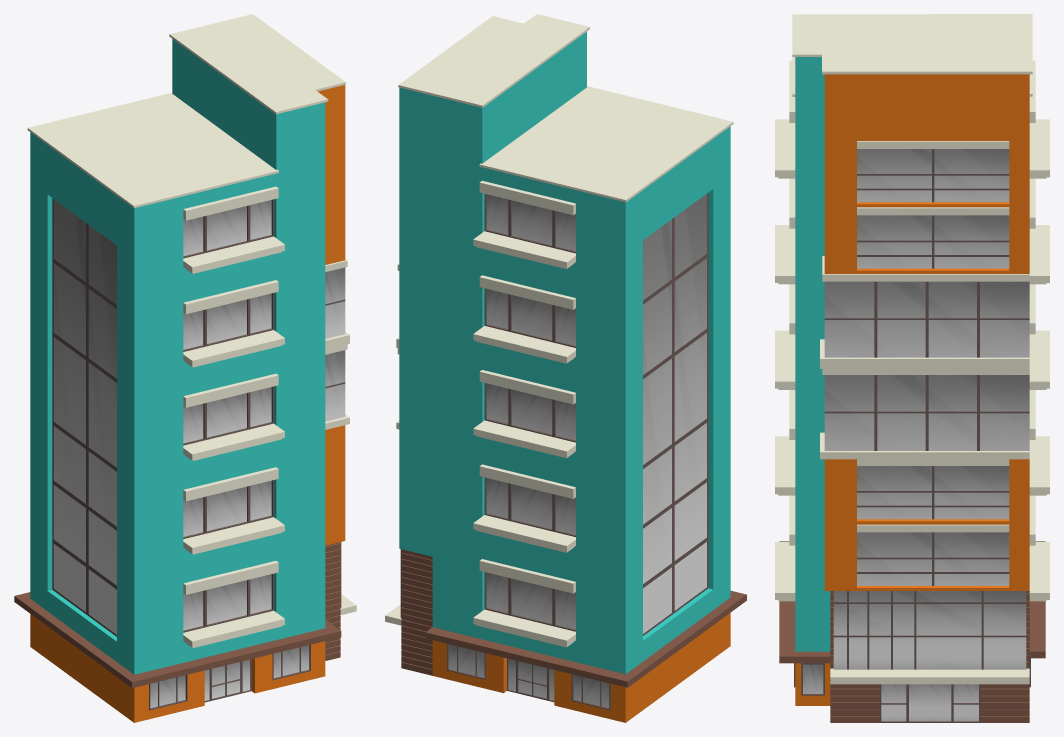
3 views of the same model, side by side, from view 1: azimuth 30°, elevation 25°; view 2: azimuth 150°, elevation 25°; view 3: azimuth 270°, elevation 25° (orthographic). The views are drawn at different scales.
Visible parts, largest first — view 1: Stylised low poly building.001, Cube.002; view 2: Stylised low poly building.001, Cube.002; view 3: Stylised low poly building.001, Cube.002.
Part boxes in pixels (bbox=[...]): Stylised low poly building.001: bbox=[14, 14, 356, 722]; Cube.002: bbox=[52, 198, 345, 710]; Stylised low poly building.001: bbox=[385, 14, 746, 722]; Cube.002: bbox=[400, 193, 708, 710]; Stylised low poly building.001: bbox=[775, 14, 1049, 722]; Cube.002: bbox=[794, 149, 1030, 722].
Bounding box in the file's own units: 9.95 × 22.22 × 8.48.
Materials: 2 (2 with a texture image).
